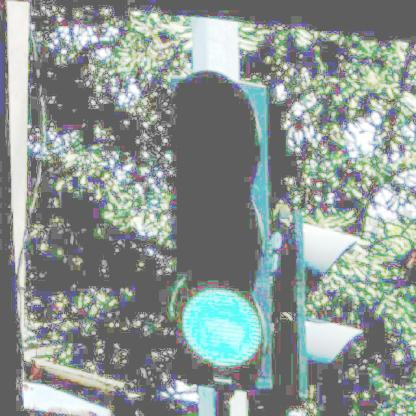Traffic Light -Green-: (157, 70, 283, 390)
